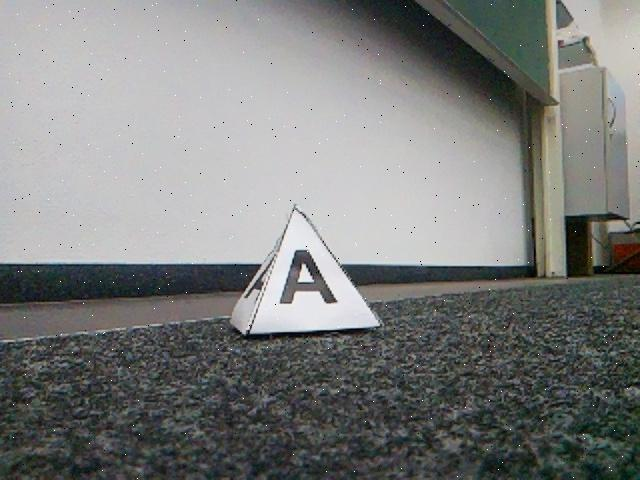A: (228, 206, 383, 338)
